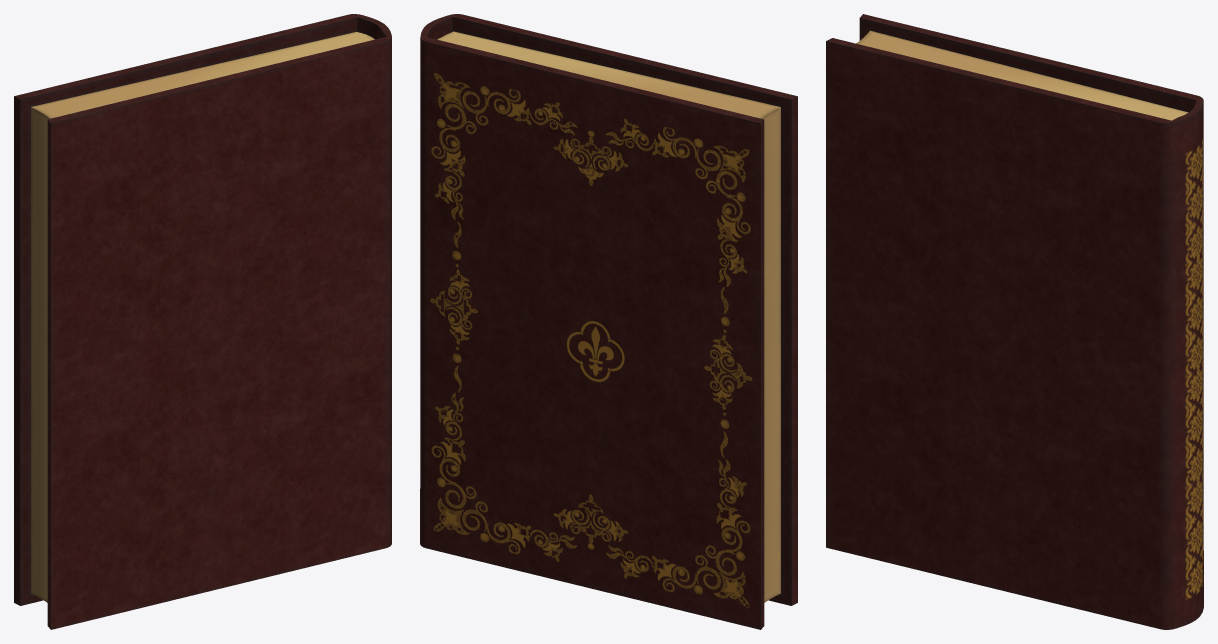
Rendered from book.glb.
The picture shows the model from 3 angles, left to right: view 1: azimuth 30°, elevation 25°; view 2: azimuth 150°, elevation 25°; view 3: azimuth 330°, elevation 25°; orthographic projection.
Parts seen in each view (by area): view 1: SM_book_1_0; view 2: SM_book_1_0; view 3: SM_book_1_0.
Part boxes in pixels (left/top/right/bottom): SM_book_1_0: left=14, top=14, right=391, bottom=629; SM_book_1_0: left=420, top=14, right=797, bottom=629; SM_book_1_0: left=826, top=14, right=1203, bottom=629.
Size of the model in its own units: 0.2044 by 0.2813 by 0.0373.
Materials: 1 (1 with a texture image).
